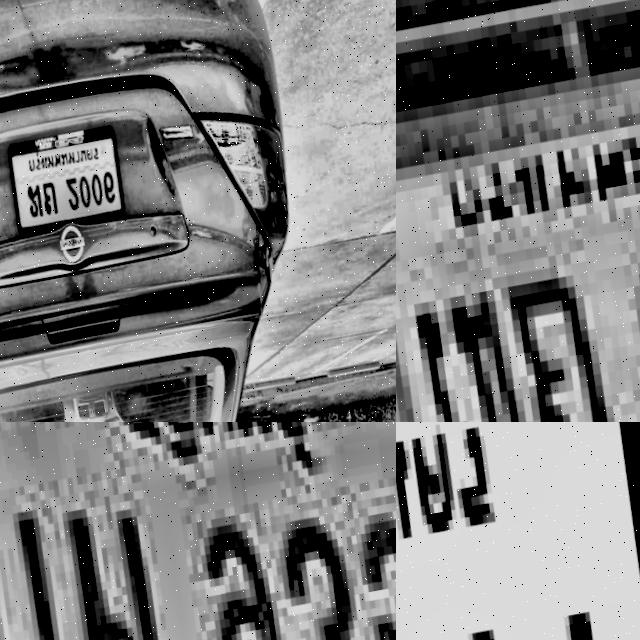license-plate: (396, 0, 640, 422), (0, 422, 396, 640), (396, 422, 640, 640), (2, 113, 140, 242)
